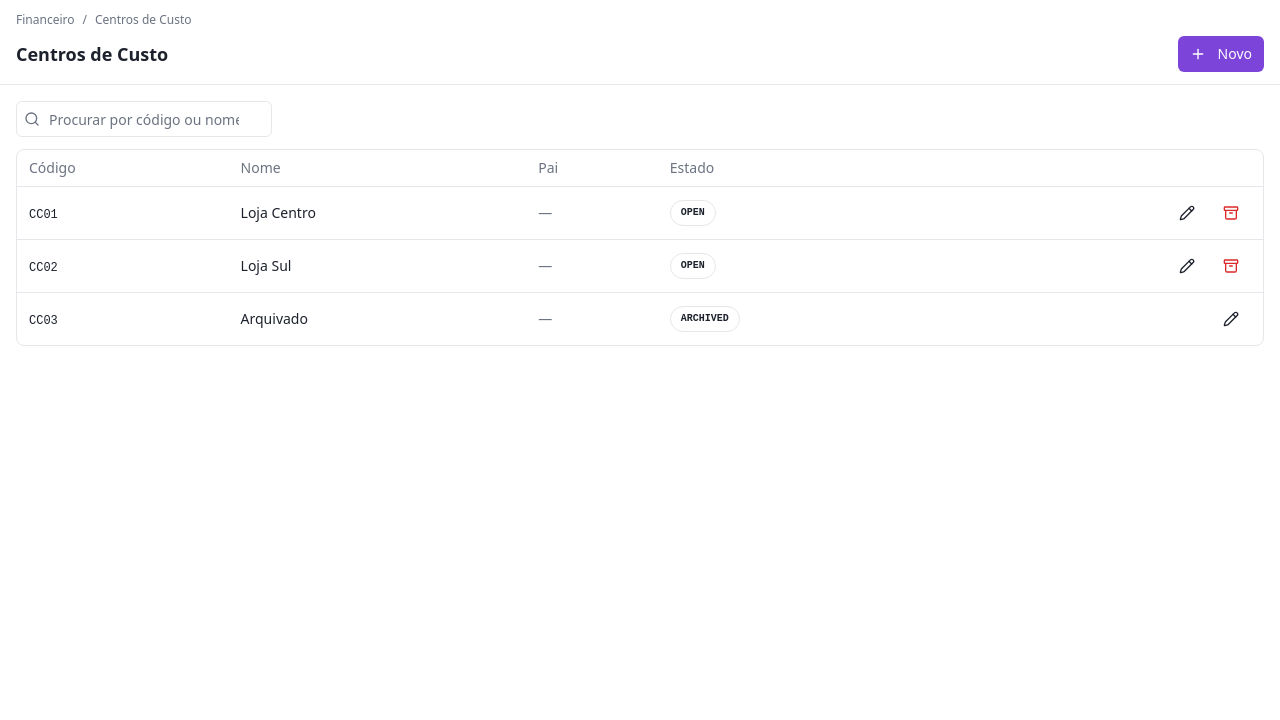
it: CostCentersPage (F28-FIN B.2) › editar chama cost_center_upsert com id existente
Later steps or results of the test are not shown.
Check: the text "CC01" is shown, box [29,208,58,222]
What coordinates should you click on to do the following:
click the button titled "Editar" in the row of "CC01"
I would click on:
 (1187, 213)
Its box is [1167,195,1207,231].
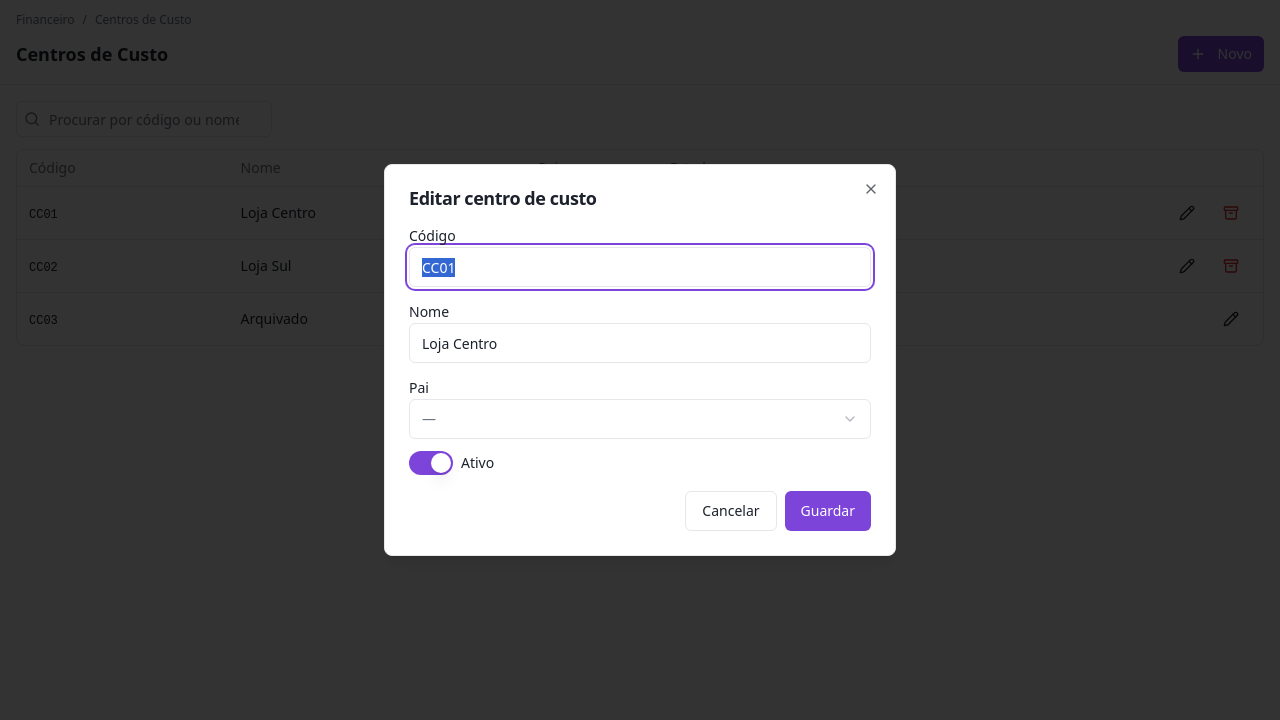
Check: the dialog is shown, box [384,164,896,556]
